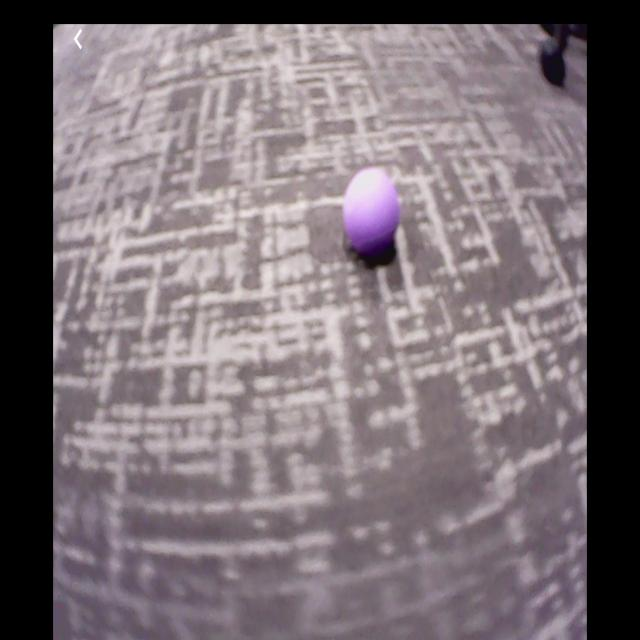ball: (346, 169, 401, 253)
